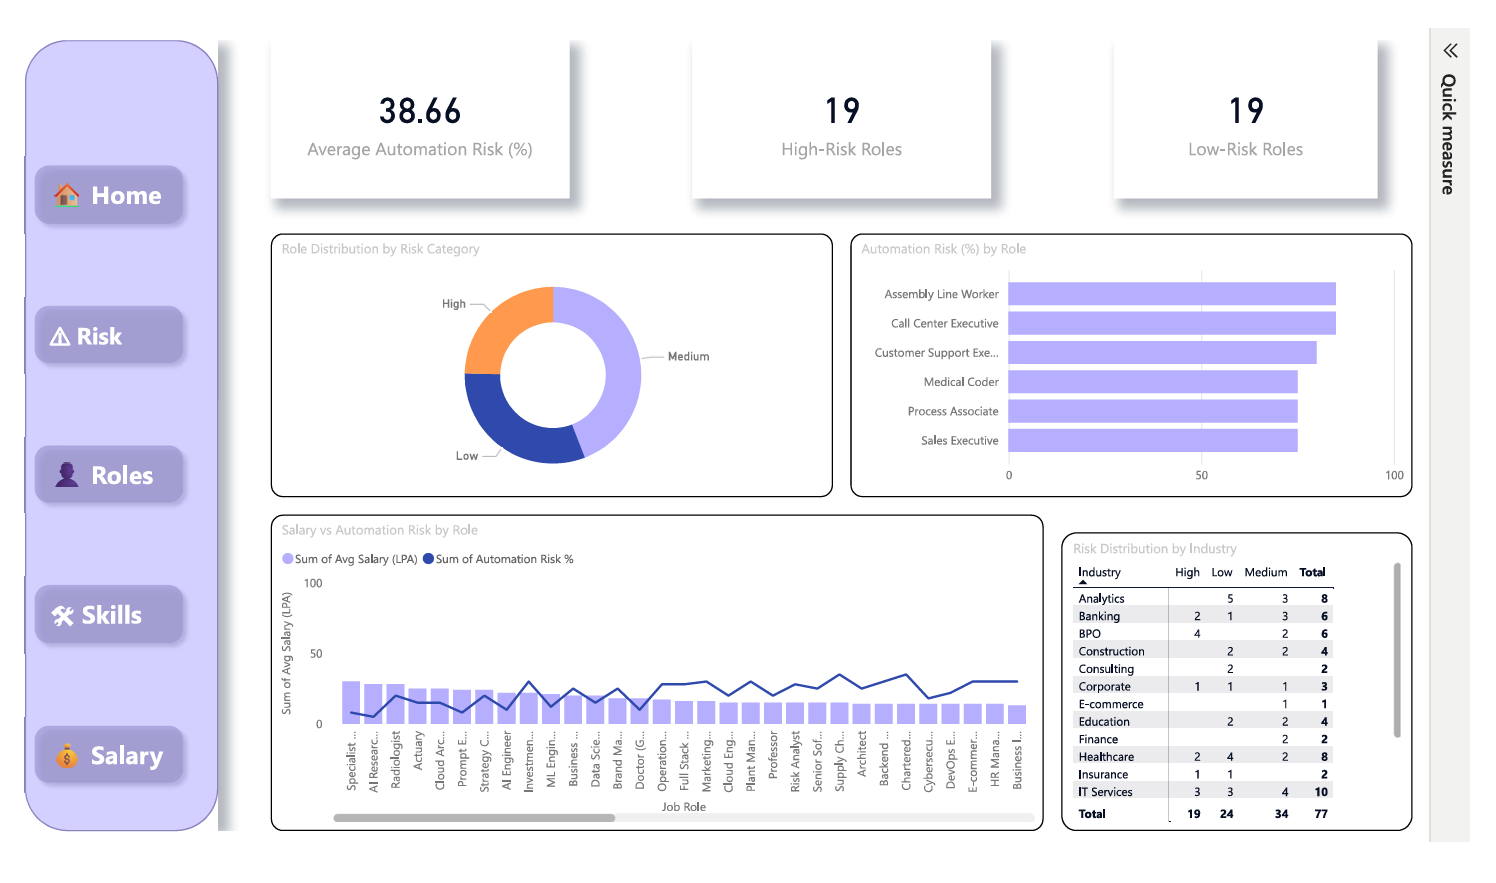

What the dashboard file says about the page in this screenshot:
{"tool":"powerbi","page":{"name":"Risk","canvas":[1280,720],"ordinal":1},"visuals":[{"type":"shape","box":[0,0,176,720],"z":0,"group":"g1"},{"type":"actionButton","box":[0,233.8,179.8,39.5],"z":0},{"type":"card","fields":{"Values":["Sheet1.Avg Automation Risk %"]},"box":[224,0,272,144],"z":1000},{"type":"actionButton","box":[0,232.7,152.7,70.2],"z":1000,"group":"g1"},{"type":"card","fields":{"Values":["Sheet1.High Risk Jobs"]},"box":[608,0,272,144],"z":2000},{"type":"actionButton","box":[0,105.4,152.7,70.2],"z":2000,"group":"g1"},{"type":"card","fields":{"Values":["Sheet1.Low Risk Jobs"]},"box":[992,0,240,144],"z":3000},{"type":"actionButton","box":[0,360,152.7,70.2],"z":3000,"group":"g1"},{"type":"donutChart","title":"Role Distribution by Risk Category","fields":{"Category":["Sheet1.Risk Category"],"Y":["CountNonNull(Sheet1.Job Role)"]},"box":[224,176,512,240],"z":4000},{"type":"actionButton","box":[0,487.3,152.7,70.2],"z":4000,"group":"g1"},{"type":"clusteredBarChart","title":"Automation Risk (%) by Role","fields":{"Category":["Sheet1.Job Role"],"Y":["Sum(Sheet1.Automation Risk %)"]},"box":[752,176,512,240],"z":5000},{"type":"actionButton","box":[0,614.6,152.7,70.2],"z":5000,"group":"g1"},{"type":"lineClusteredColumnComboChart","title":"Salary vs Automation Risk by Role","fields":{"Category":["Sheet1.Job Role"],"Y":["Sum(Sheet1.Avg Salary (LPA))"],"Y2":["Sum(Sheet1.Automation Risk %)"]},"box":[224,432,704,288],"z":6000},{"type":"pivotTable","title":"Risk Distribution by Industry","fields":{"Columns":["Sheet1.Risk Category"],"Values":["CountNonNull(Sheet1.Job Role)"],"Rows":["Sheet1.Industry"]},"box":[944,448,320,272],"z":7000},{"type":"group","id":"g1","title":"Sidebar","box":[0,0,176,720],"z":8000}]}

Visuals, with their boxes in screenshot pixels (x1, y1, x2, y2):
shape: (19, 31, 215, 832)
actionButton: (19, 291, 219, 335)
card - Sheet1.Avg Automation Risk %: (269, 31, 571, 191)
actionButton: (19, 290, 189, 368)
card - Sheet1.High Risk Jobs: (695, 31, 998, 191)
actionButton: (19, 148, 189, 226)
card - Sheet1.Low Risk Jobs: (1122, 31, 1389, 191)
actionButton: (19, 431, 189, 509)
"Role Distribution by Risk Category" donutChart: (269, 227, 838, 494)
actionButton: (19, 573, 189, 651)
"Automation Risk (%) by Role" clusteredBarChart: (856, 227, 1425, 494)
actionButton: (19, 714, 189, 792)
"Salary vs Automation Risk by Role" lineClusteredColumnComboChart: (269, 511, 1051, 832)
"Risk Distribution by Industry" pivotTable: (1069, 529, 1425, 832)
"Sidebar" group: (19, 31, 215, 832)
